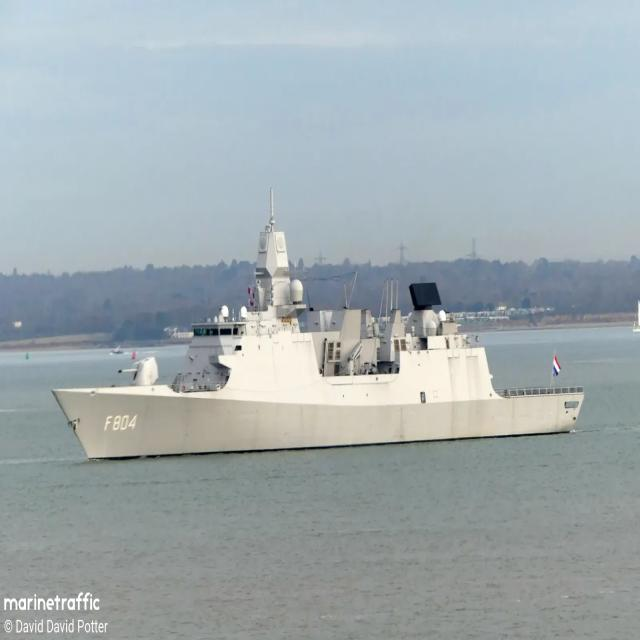Military: (53, 190, 583, 459)
